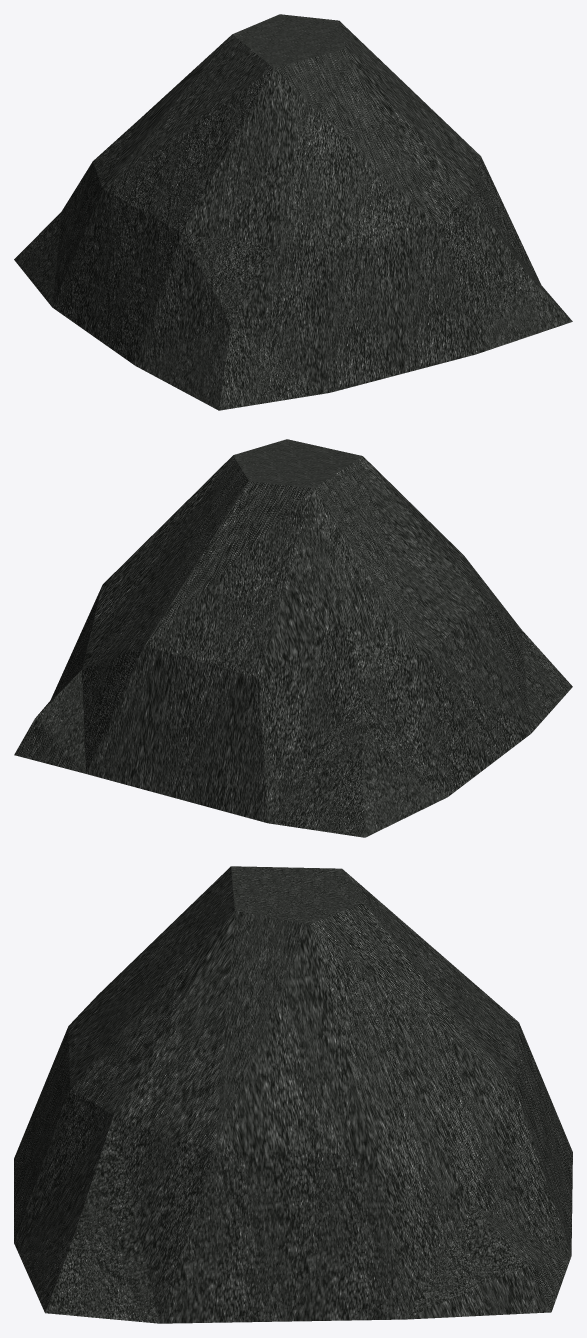
File: gunpowder.glb
The picture shows the model from 3 angles, top to bottom: view 1: azimuth 30°, elevation 25°; view 2: azimuth 150°, elevation 25°; view 3: azimuth 270°, elevation 25°; orthographic projection. The views are drawn at different scales.
Visible parts, largest first — view 1: Plane; view 2: Plane; view 3: Plane.
Part boxes in pixels (left/top/right/bottom): Plane: left=14, top=14, right=572, bottom=410; Plane: left=14, top=439, right=572, bottom=837; Plane: left=14, top=866, right=572, bottom=1323.
Bounding box in the file's own units: 2.01 × 1.25 × 2.
Materials: 1 (1 with a texture image).
